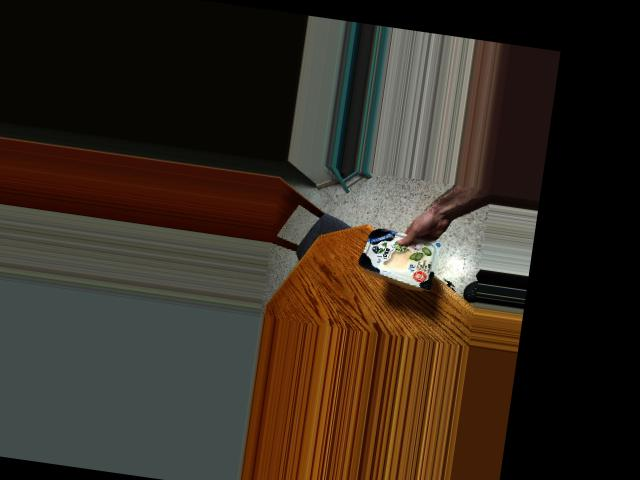cheese: (356, 223, 440, 292)
